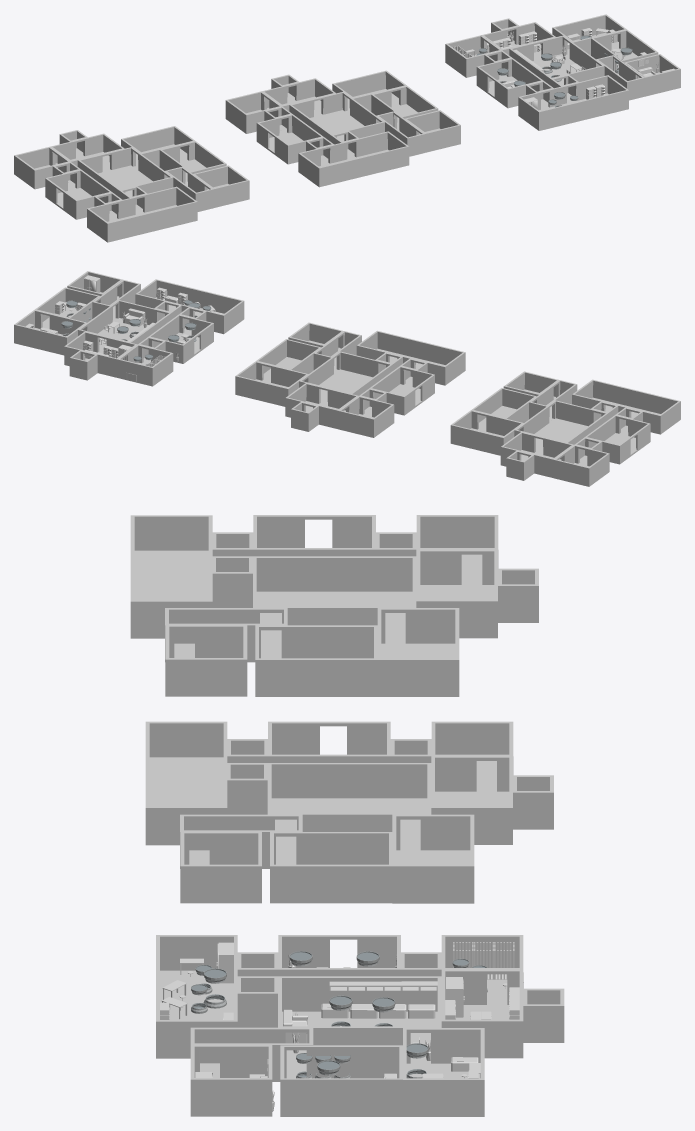
The picture shows the model from 3 angles, top to bottom: view 1: azimuth 30°, elevation 25°; view 2: azimuth 150°, elevation 25°; view 3: azimuth 270°, elevation 25°; orthographic projection. The views are drawn at different scales.
Parts seen in each view (by area): view 1: room.017, room.014, room.020, room.006, room.028, room.007, room.018, room.005, room.001, room.012, room.011, room.002 (+11 smaller); view 2: room.017, room.014, room.006, room.020, room.005, room.028, room.029, room.007, room.018, room.001, room.015, room.002 (+11 smaller); view 3: room.017, room.006, room.014, room.011, room.022, room.028, room.005, room.020, room.029, room.015, room.012, room.021 (+15 smaller).
Boxes of the visible parts, x1,y1,x2,y2 form: room.017: (14,126,249,242); room.014: (298,131,409,187); room.020: (518,75,628,130); room.006: (289,91,384,141); room.028: (509,35,604,85); room.007: (256,114,323,164); room.018: (476,58,543,108); room.005: (332,70,406,113); room.001: (225,91,281,133); room.012: (404,110,460,152); room.011: (371,86,438,130); room.002: (445,35,501,77); room.017: (450,371,680,486); room.014: (356,330,465,385); room.006: (299,351,392,405); room.020: (135,279,244,334); room.005: (235,361,308,406); room.028: (78,300,171,352); room.029: (14,310,86,355); room.007: (369,366,434,415); room.018: (148,314,213,363); room.001: (338,396,394,437); room.015: (285,383,358,428); room.002: (117,344,173,386); room.017: (130,515,538,696); room.006: (267,763,431,848); room.014: (145,721,227,845); room.011: (270,832,392,903); room.022: (280,1045,402,1116); room.028: (278,976,441,1062); room.005: (392,814,474,903); room.020: (156,935,237,1058); room.029: (403,1028,484,1116); room.015: (431,756,512,844); room.012: (180,831,261,903); room.021: (190,1045,272,1116).
Bounding box in the file's own units: 9808 × 303 × 3181.
